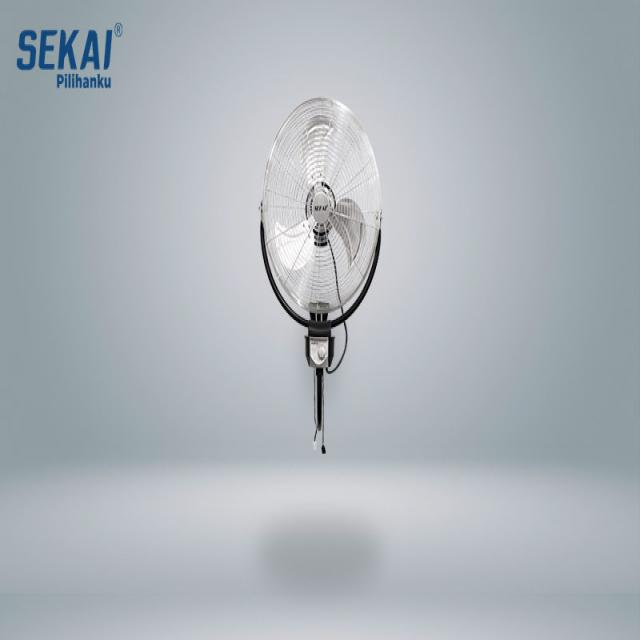fan: (254, 85, 388, 465)
